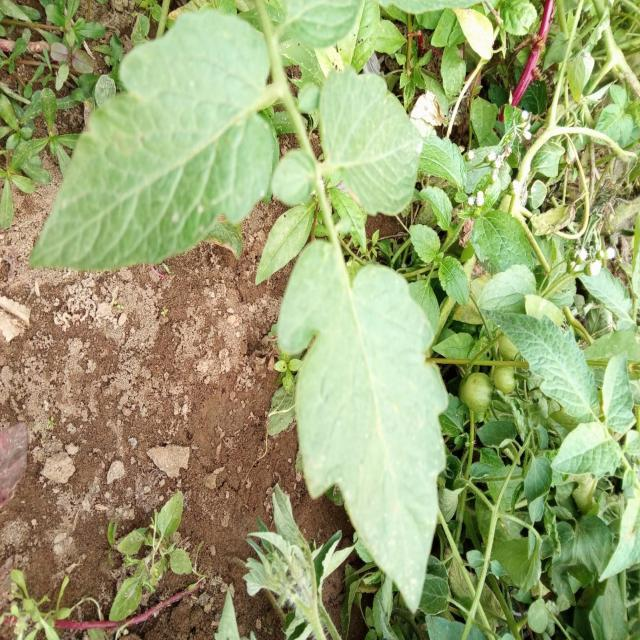Healthy: (27, 0, 324, 337), (261, 222, 486, 622), (487, 281, 619, 434), (318, 68, 423, 215)
